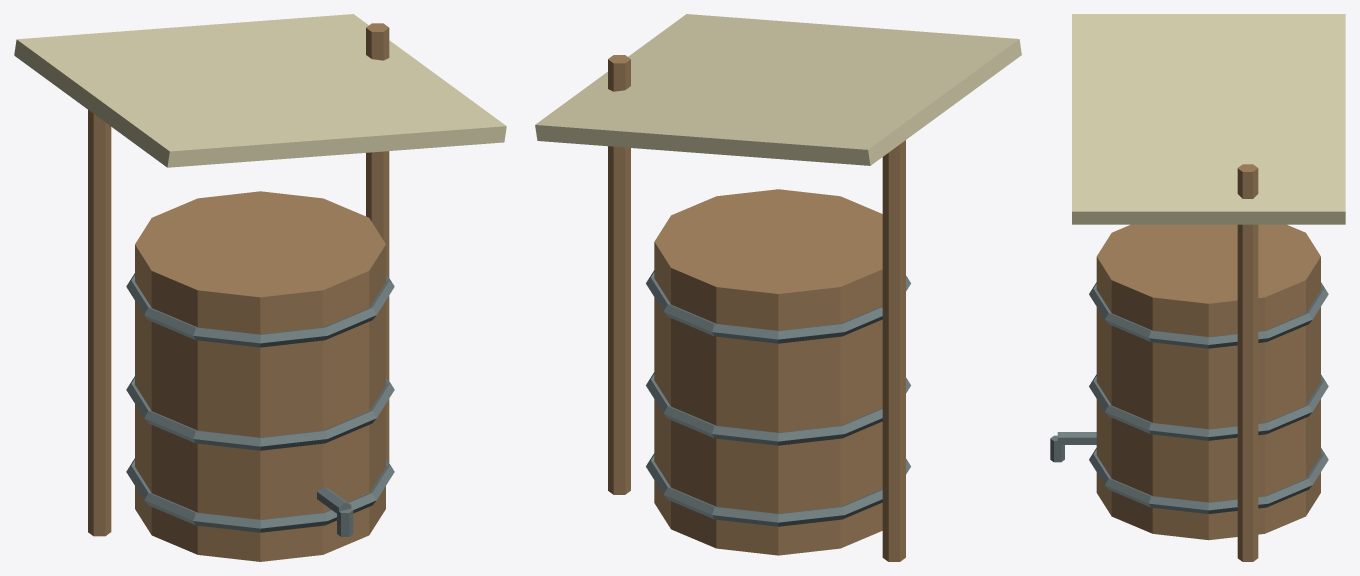
File: campaign_water_tank.glb
3 views of the same model, side by side, from view 1: azimuth 30°, elevation 25°; view 2: azimuth 150°, elevation 25°; view 3: azimuth 270°, elevation 25° (orthographic). The views are drawn at different scales.
Parts seen in each view (by area): view 1: campaign_water_tank; view 2: campaign_water_tank; view 3: campaign_water_tank.
Boxes of the visible parts, x1,y1,x2,y2 form: campaign_water_tank: (14,14,506,561); campaign_water_tank: (535,14,1021,561); campaign_water_tank: (1050,14,1345,561).
Bounding box in the file's own units: 1.34 × 1.74 × 1.13.
